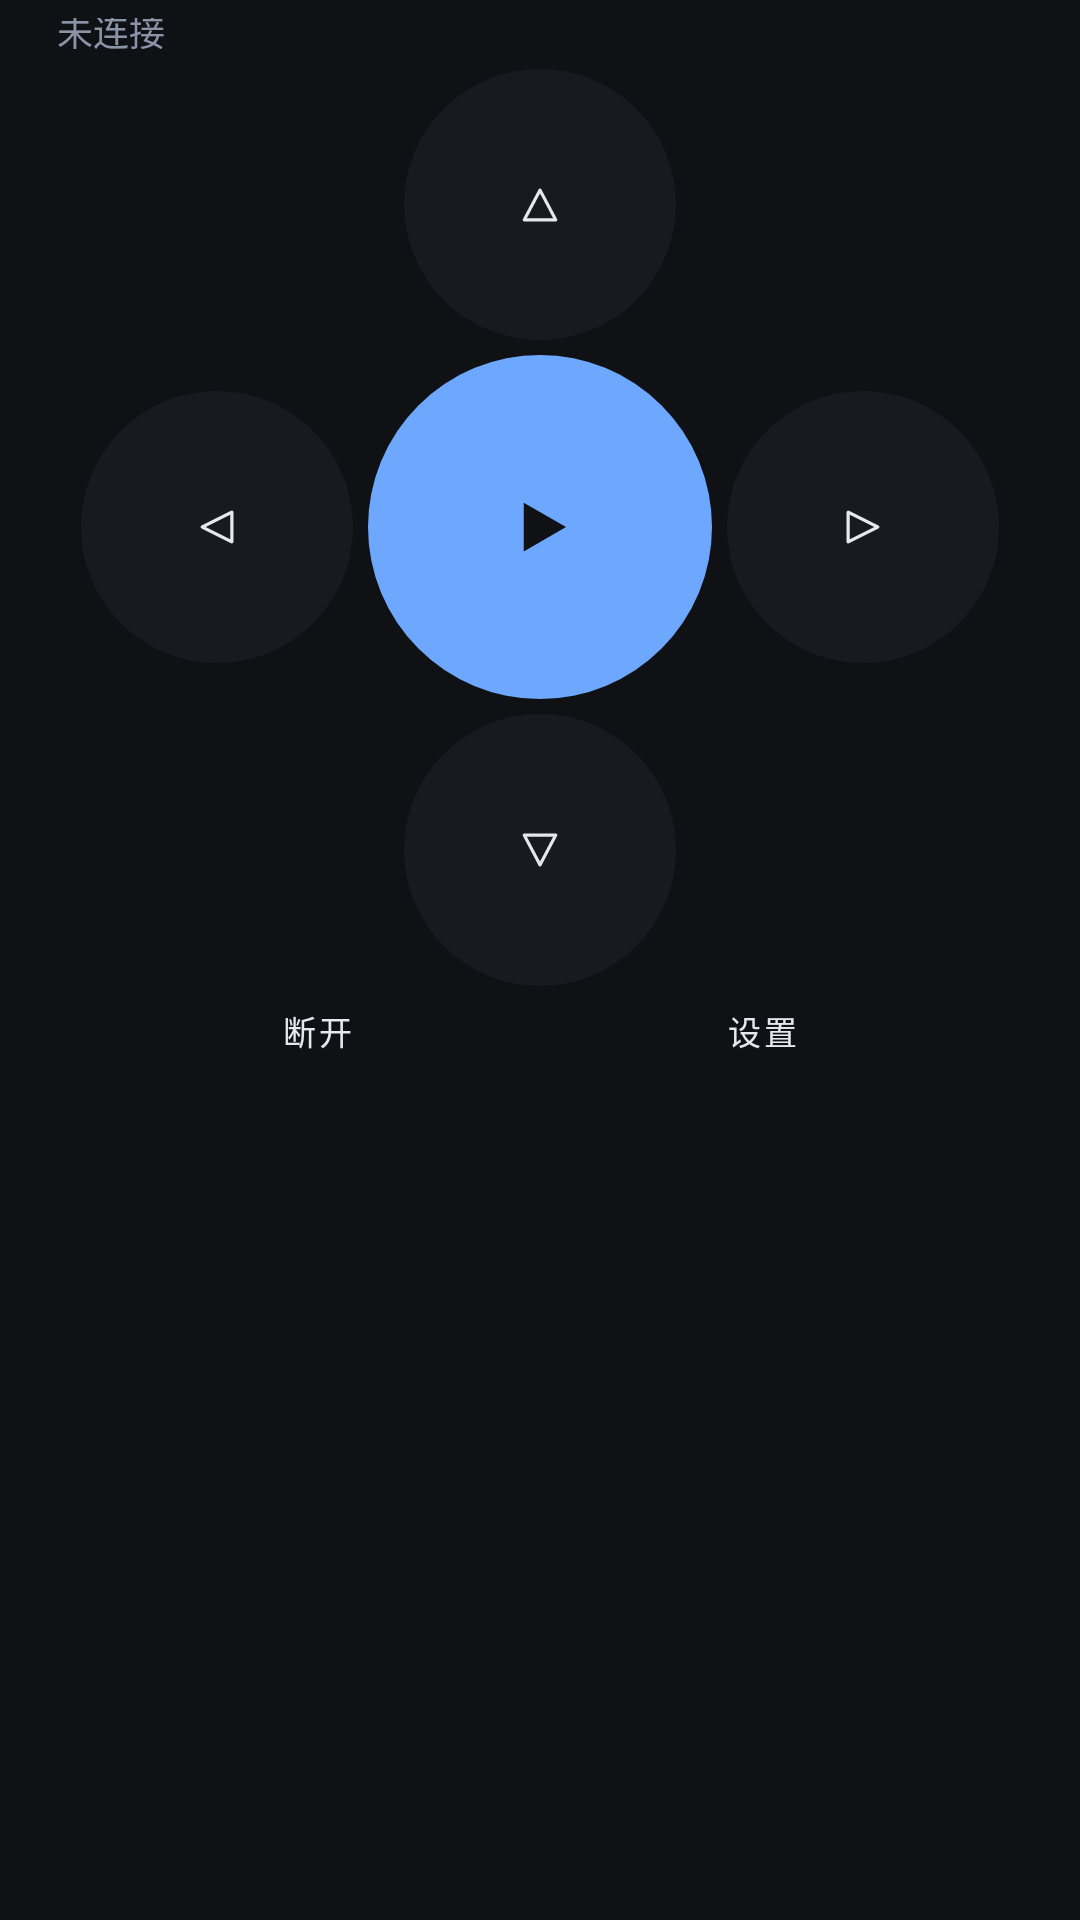

Named icons in this screenshot (1080px x 1920px) and their centers, [x,y]:
arrow down: [540,850]
arrow left: [217,527]
arrow right: [863,527]
arrow up: [540,204]
播放或暂停: [540,527]
